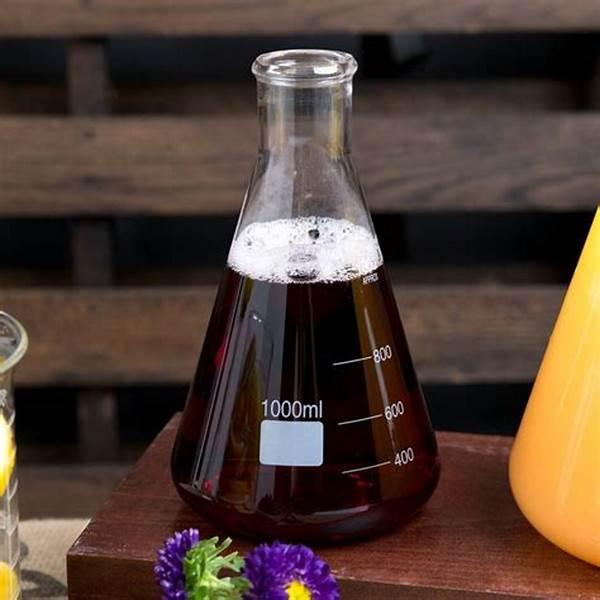Titrarion: (166, 44, 443, 539)
